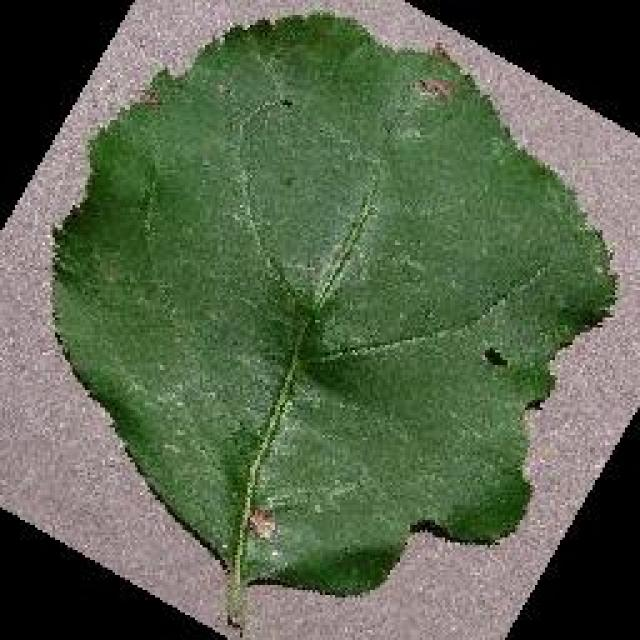apple healthy: (45, 8, 620, 618)
